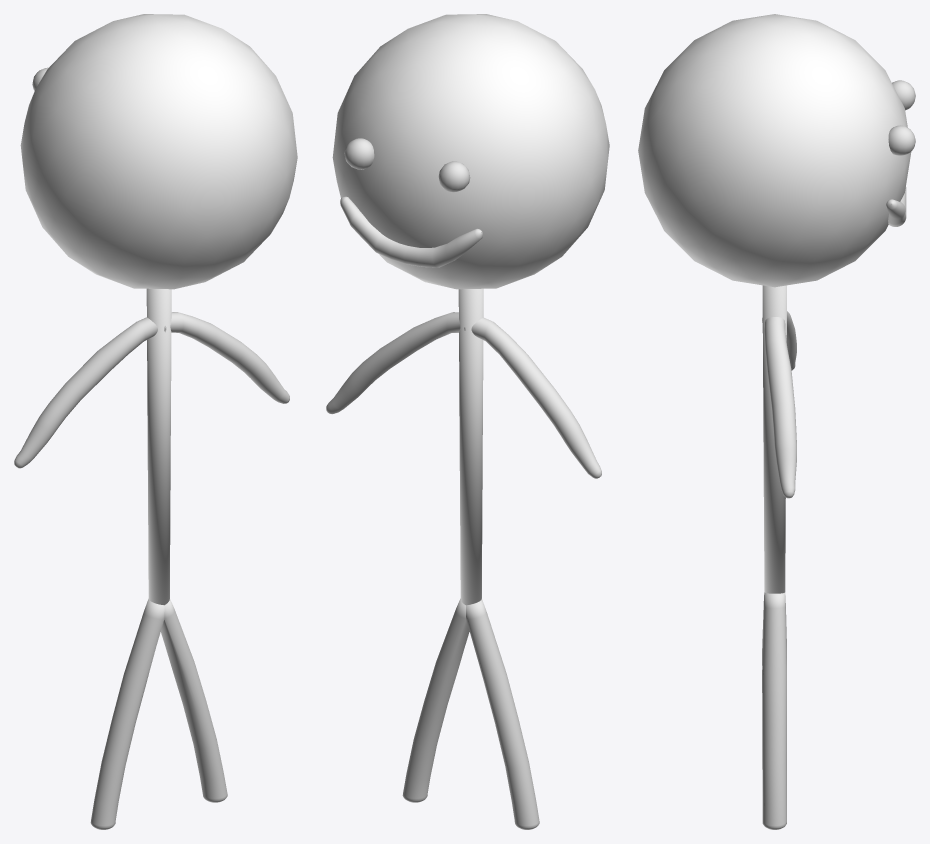
Rendered from Player Normal.fbx.
3 views of the same model, side by side, from view 1: azimuth 30°, elevation 25°; view 2: azimuth 150°, elevation 25°; view 3: azimuth 270°, elevation 25° (orthographic).
Visible parts, largest first — view 1: Icosphere.001, Icosphere.002, Icosphere, Icosphere.003; view 2: Icosphere.001, Icosphere.002, Icosphere.003, Icosphere, Icosphere.004; view 3: Icosphere.001, Icosphere.002, Icosphere, Icosphere.003, Icosphere.004.
Boxes of the visible parts, x1,y1,x2,y2 form: Icosphere.001: (20, 14, 297, 289); Icosphere.002: (90, 599, 227, 829); Icosphere: (146, 288, 171, 605); Icosphere.003: (14, 312, 289, 468); Icosphere.001: (332, 14, 609, 289); Icosphere.002: (402, 598, 539, 829); Icosphere.003: (326, 312, 601, 478); Icosphere: (458, 288, 483, 605); Icosphere.004: (340, 138, 482, 267); Icosphere.001: (638, 14, 911, 287); Icosphere.002: (762, 592, 786, 829); Icosphere: (762, 285, 786, 593); Icosphere.003: (762, 311, 796, 498); Icosphere.004: (886, 80, 915, 226).
Bounding box in the file's own units: 640 × 1758 × 571.
2 materials, 1 textured.
